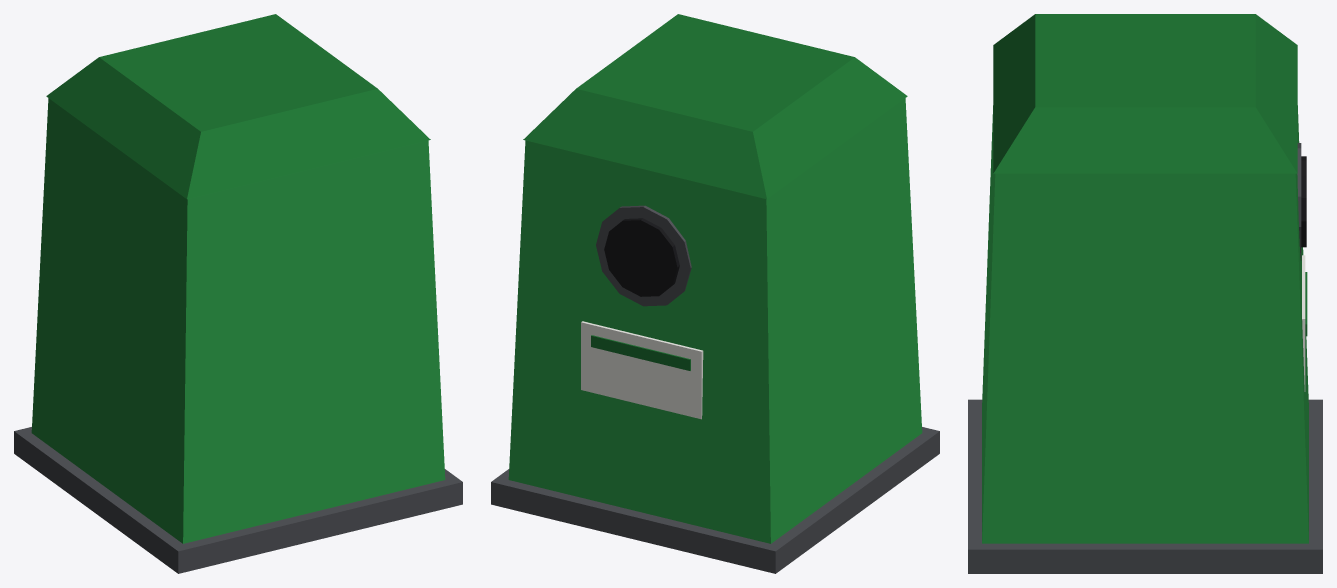
File: Ecoponto_Green.fbx
3 renders of one model, left to right at view 1: azimuth 30°, elevation 25°; view 2: azimuth 150°, elevation 25°; view 3: azimuth 270°, elevation 25°, orthographic. The views are drawn at different scales.
Visible parts, largest first — view 1: Ecoponto_Green; view 2: Ecoponto_Green; view 3: Ecoponto_Green.
Part boxes in pixels (x1,y1,x2,y2): Ecoponto_Green: [14, 14, 462, 573]; Ecoponto_Green: [491, 14, 939, 573]; Ecoponto_Green: [968, 14, 1322, 573].
Size of the model in its own units: 1.32 by 1.8 by 1.32.
